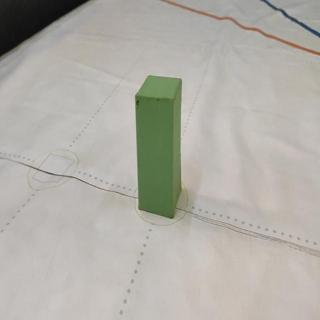greenbox: (133, 75, 185, 219)
